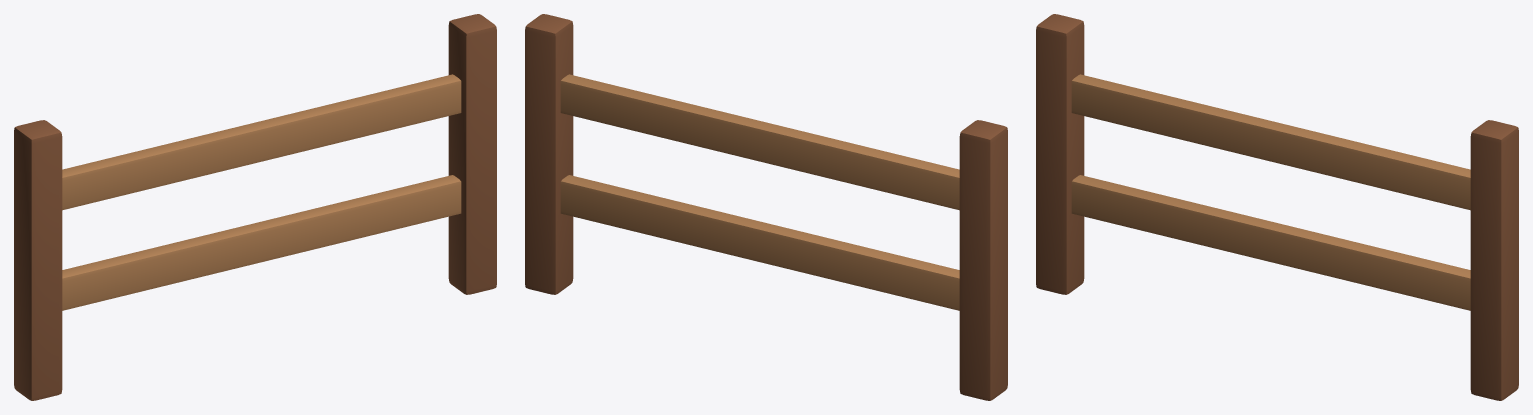
Rendered from fence.glb.
The picture shows the model from 3 angles, left to right: view 1: azimuth 30°, elevation 25°; view 2: azimuth 150°, elevation 25°; view 3: azimuth 330°, elevation 25°; orthographic projection.
Visible parts, largest first — view 1: fence; view 2: fence; view 3: fence.
Boxes of the visible parts, left/top/right/bottom form: fence: left=14, top=14, right=496, bottom=400; fence: left=525, top=14, right=1007, bottom=400; fence: left=1036, top=14, right=1518, bottom=400.
Size of the model in its own units: 2.04 by 1.1 by 0.14.
